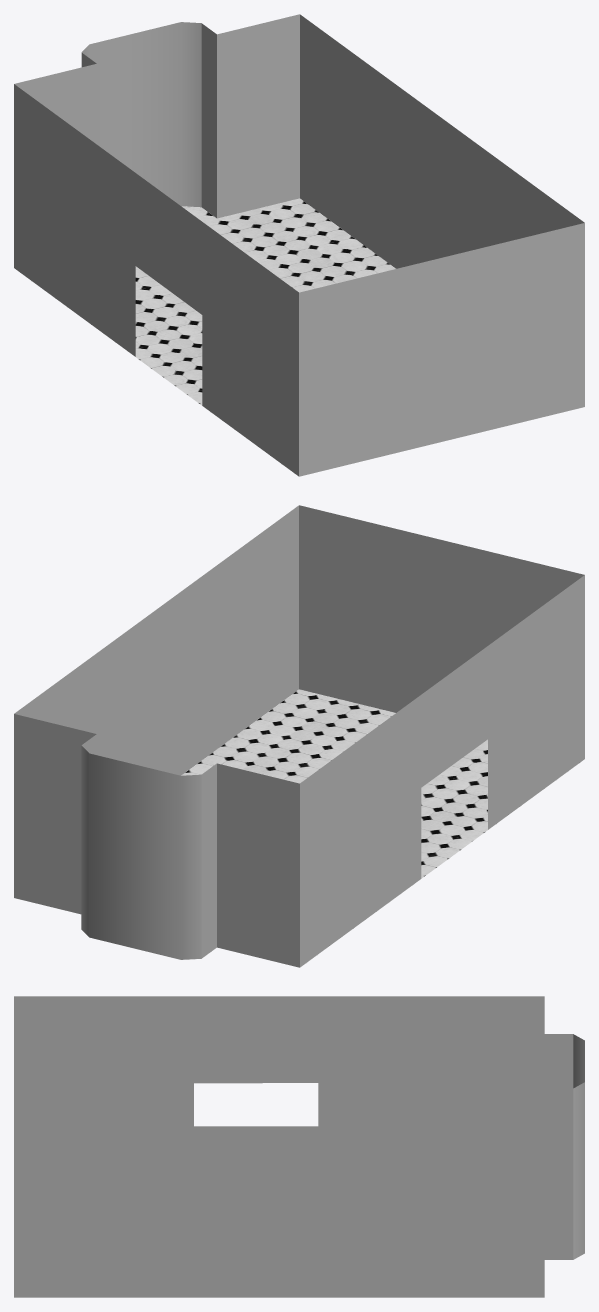
Rendered from Kitchen_Room.fbx.
3 renders of one model, top to bottom at view 1: azimuth 30°, elevation 25°; view 2: azimuth 150°, elevation 25°; view 3: azimuth 270°, elevation 25°, orthographic. The views are drawn at different scales.
Visible parts, largest first — view 1: Wall, Floor; view 2: Wall, Floor; view 3: Wall.
Part boxes in pixels (<box>): Wall: <box>14,14,584,476</box>; Floor: <box>36,198,395,467</box>; Wall: <box>14,505,584,967</box>; Floor: <box>182,689,584,959</box>; Wall: <box>14,996,584,1297</box>.
Bounding box in the file's own units: 3688 × 2270 × 6855.
